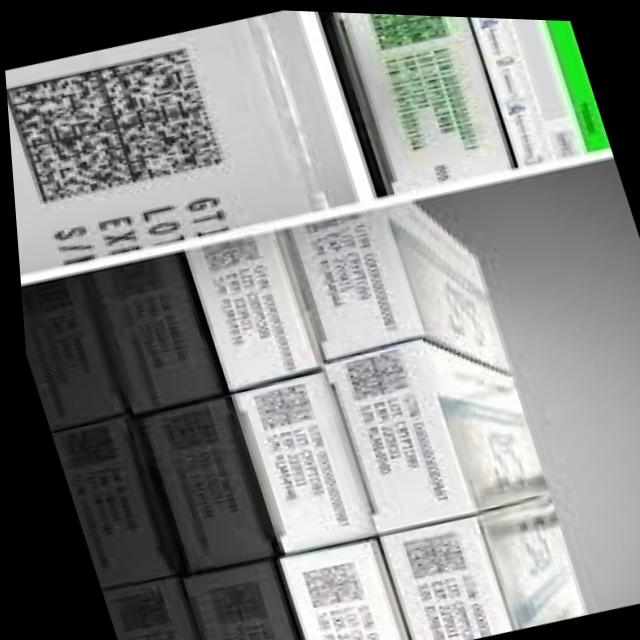datamatrix: (3, 33, 237, 222), (326, 338, 416, 407), (283, 548, 368, 615), (386, 521, 470, 585), (237, 374, 318, 436), (357, 11, 460, 57), (181, 227, 265, 279)
